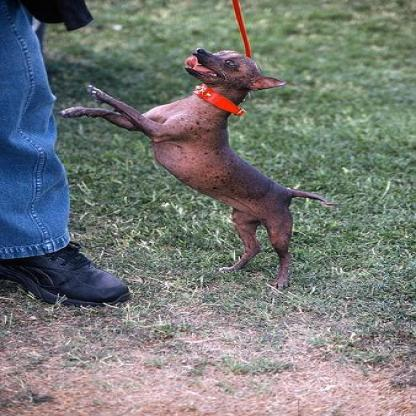Mexican_hairless: (51, 45, 328, 289)
